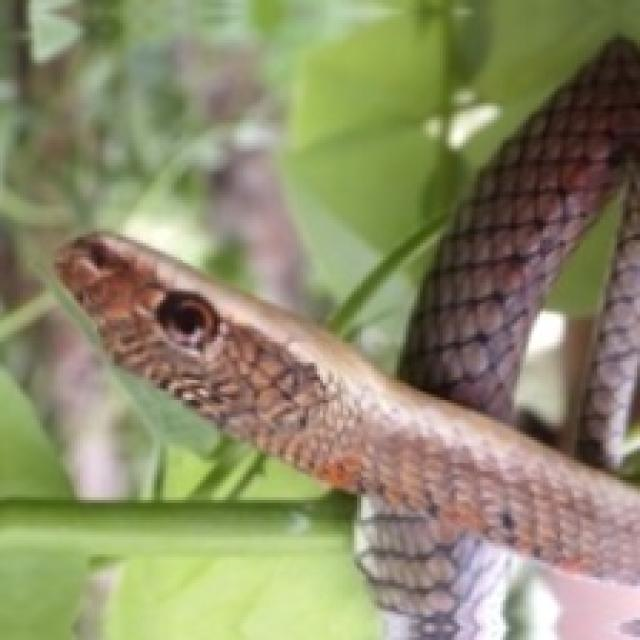paradise tree snake: (57, 43, 637, 637)
